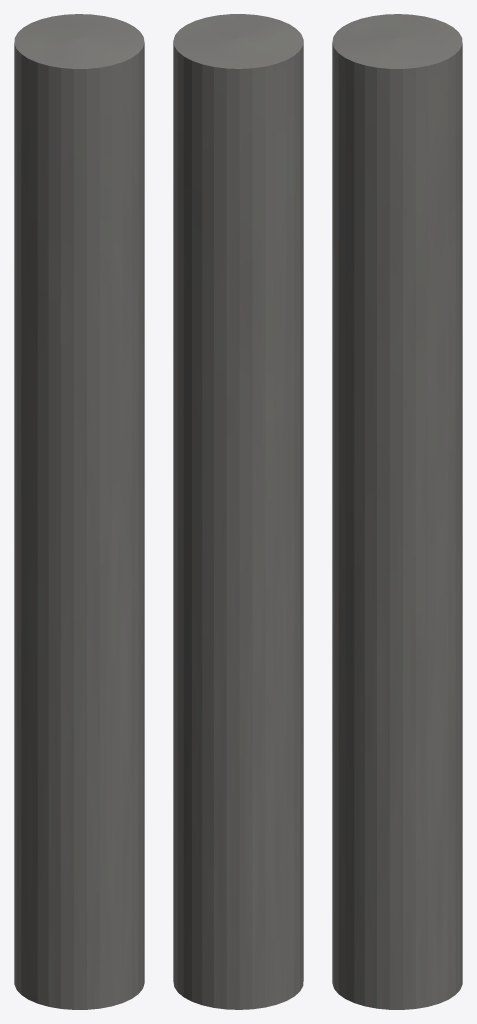
File: DiscoTube.obj
3 views of the same model, side by side, from view 1: azimuth 30°, elevation 25°; view 2: azimuth 210°, elevation 25°; view 3: azimuth 330°, elevation 25° (orthographic).
Visible parts, largest first — view 1: Grid.001; view 2: Grid.001; view 3: Grid.001.
Boxes of the visible parts, left/top/right/bottom form: Grid.001: left=14, top=14, right=144, bottom=1009; Grid.001: left=173, top=14, right=303, bottom=1009; Grid.001: left=332, top=14, right=462, bottom=1009.
Bounding box in the file's own units: 0.0963 × 0.7705 × 0.0962.
Materials: 1 (1 with a texture image).
